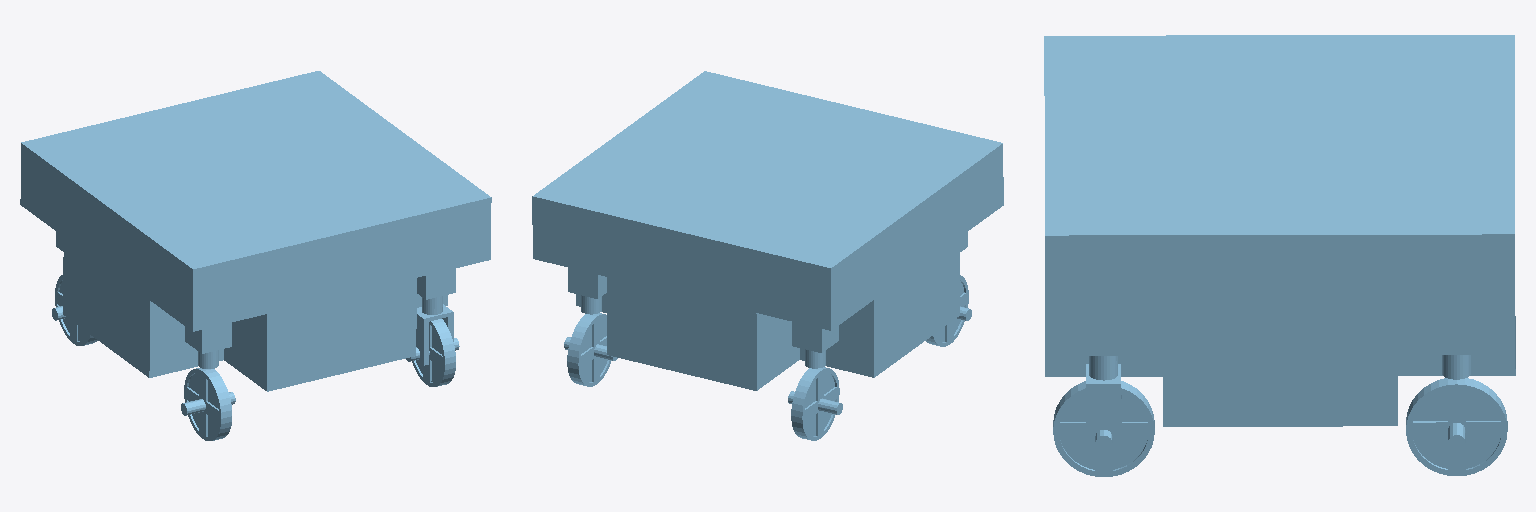
URDF robot description (mobile_base):
<?xml version="1.0" encoding="utf-8"?>
<!-- This URDF was automatically created by SolidWorks to URDF Exporter! Originally created by [author] ([email redacted]) 
     Commit Version: 1.6.0-4-g7f85cfe  Build Version: 1.6.7995.38578
     For more information, please see http://wiki.ros.org/sw_urdf_exporter -->
<robot
  name="mobile_base">
  <link
    name="base_link">
    <inertial>
      <origin
        xyz="-0.000116077702547958 -0.0350031160113934 0.298943810669157"
        rpy="0 0 0" />
      <mass
        value="56"/>
      <inertia
        ixx="5.31"
        ixy="0.0"
        ixz="0.0"
        iyy="5.258"
        iyz="0.0"
        izz="5.310" />
    </inertial>
    <visual>
      <origin
        xyz="0 0 0"
        rpy="0 0 0" />
      <geometry>
        <mesh
          filename="package://mobile_base/meshes/base_link.STL" />
      </geometry>
      <material
        name="">
        <color
          rgba="0.615686274509804 0.811764705882353 0.925490196078431 1" />
      </material>
    </visual>
    <collision>
      <origin
        xyz="0 0 0"
        rpy="0 0 0" />
      <geometry>
        <mesh
          filename="package://mobile_base/meshes/base_link.STL" />
      </geometry>
    </collision>
  </link>
  <link
    name="f_l_prismatic">
    <inertial>
      <origin
        xyz="-1.66533453693773E-16 2.22044604925031E-16 -0.00277737910243356"
        rpy="0 0 0" />
      <mass
        value="0.63" />
      <inertia
        ixx="0.0"
        ixy="0.0"
        ixz="0.0"
        iyy="0.0"
        iyz="0.0"
        izz="0.0" />
    </inertial>
      <visual>
      <origin
        xyz="0 0 0"
        rpy="0 0 0" />
      <geometry>
        <mesh
          filename="package://mobile_base/meshes/f_l_prismatic.STL" />
      </geometry>
      <material
        name="">
        <color
          rgba="0.615686274509804 0.811764705882353 0.929411764705882 1" />
      </material>
    </visual>
    <collision>
      <origin
        xyz="0 0 0"
        rpy="0 0 0" />
      <geometry>
        <mesh
          filename="package://mobile_base/meshes/f_l_prismatic.STL" />
      </geometry>
    </collision>
  </link>
  <joint
    name="f_l_prismatic_joint"
    type="fixed">
    <origin
      xyz="0.2998 -0.33482 0.24287"
      rpy="0.0026114 0.002229 0" /> 
    <parent
      link="base_link" />
    <child
      link="f_l_prismatic" />
    <axis xyz="0 0 1" />
      <limit
      lower="0.01"
      upper="0.05"
      effort="1000"
      velocity="0" />
    <dynamics 
    damping="1"
    friction="0"
    spring_stiffness="0" 
    spring_referance="0" />
  </joint>
  <link
    name="f_l_rotate">
    <inertial>
      <origin
        xyz="-0.000108967571125163 -0.0488863047415668 -0.000127660035035393"
        rpy="0 0 0" />
      <mass
        value="0.35" />
      <inertia
        ixx="0.01"
        ixy="0.0"
        ixz="0.0"
        iyy="0.01"
        iyz="0.0"
        izz="0.0" />
    </inertial>
    <visual>
      <origin
        xyz="0 0 0"
        rpy="0 0 0" />
      <geometry>
        <mesh
          filename="package://mobile_base/meshes/f_1_rotate.STL" />
      </geometry>
      <material
        name="">
        <color
          rgba="0.615686274509804 0.811764705882353 0.929411764705882 1" />
      </material>
    </visual>
    <collision>
      <origin
        xyz="0 0 0"
        rpy="0 0 0" />
      <geometry>
        <mesh
          filename="package://mobile_base/meshes/f_1_rotate.STL" />
      </geometry>
    </collision>
  </link>
  <joint
    name="f_l_rotate_joint"
    type="fixed">
    <origin
      xyz="0 0 -0.0527773791024335"
      rpy="1.56818496671092 -0.00222898866464819 0" />
    <parent
      link="f_l_prismatic" />
    <child
      link="f_l_rotate" />
    <axis
      xyz="0.00222898681890077 0.999994106215458 0.00261135062896505" />
    <limit
      lower="-1.5708"
      upper="1.5708"
      effort="0"
      velocity="0" />
  </joint>
  <link
    name="f_l_ew">
    <inertial>
      <origin
        xyz="0 0 0"
        rpy="0 0 0" />
      <mass
        value="1.89" />
      <inertia
        ixx="018"
        ixy="0.01"
        ixz="0.17"
        iyy="0.34"
        iyz="0.01"
        izz="0.18" />
    </inertial>
    <visual>
      <origin
        xyz="0 0 0"
        rpy="0 0 0" />
      <geometry>
        <mesh
          filename="package://mobile_base/meshes/f_l_ew.STL" />
      </geometry>
      <material
        name="">
        <color
          rgba="0.615686274509804 0.811764705882353 0.929411764705882 1" />
      </material>
    </visual>
    <collision>
      <origin
        xyz="0 0 0"
        rpy="0 0 0" />
      <geometry>
        <mesh
          filename="package://mobile_base/meshes/f_l_ew.STL" />
      </geometry>
    </collision>
  </link>
  <joint
    name="f_l_ew_joint"
    type="continuous">
    <origin
      xyz="-0.000222898681890127 -0.0999994106215459 -0.000261135062896545"
      rpy="3.13936402790797 -1.57065442321589 0" />
    <parent
      link="f_l_rotate" />
    <child
      link="f_l_ew" />
    <axis
      xyz="0 0 1" />
    <limit
      effort="1000"
      velocity="100000" />
  </joint>
  <link
    name="f_r_prismatic">
    <inertial>
      <origin
        xyz="-1.11022302462516E-16 1.11022302462516E-16 -0.0027773791024335"
        rpy="0 0 0" />  
      <mass
        value="0.63" />
      <inertia
        ixx="0.0"
        ixy="0.0"
        ixz="0.0"
        iyy="0.0"
        iyz="0.0"
        izz="0.0" />
    </inertial>
     <visual>
      <origin
        xyz="0 0 0"
        rpy="0 0 0" />
      <geometry>
        <mesh
          filename="package://mobile_base/meshes/f_r_prismatic.STL" />
      </geometry>
      <material
        name="">
        <color
          rgba="0.615686274509804 0.811764705882353 0.929411764705882 1" />
      </material>
    </visual>
    <collision>
      <origin
        xyz="0 0 0"
        rpy="0 0 0" />
      <geometry>
        <mesh
          filename="package://mobile_base/meshes/f_r_prismatic.STL" />
      </geometry>
    </collision>
  </link>
  <joint
    name="f_r_prismatic_joint"
    type="fixed">
    <origin
      xyz="-0.3002 -0.3349 0.24421"
      rpy="0.0026114 0.002229 0" />
    <parent
      link="base_link" />
    <child
      link="f_r_prismatic" />
    <axis
      initial_position = "500"
      xyz="0 0 1" />
    <limit
      lower="0.01"
       upper="0.05"
      effort="1000"
      velocity="0" />
    <dynamics 
    damping="1"  
    friction="0"
    spring_stiffness="0" 
    spring_referance="0"/>
  </joint>
  <link
    name="f_r_rotate">
    <inertial>
      <origin
        xyz="-0.000108967571125163 -0.0488863047415668 -0.000127660035035393"
        rpy="0 0 0" />
      <mass
        value="0.35" />
      <inertia
        ixx="01"
        ixy="0.0"
        ixz="0.0"
        iyy="1"
        iyz="0.0"
        izz="0.0" />
    </inertial>
    <visual>
      <origin
        xyz="0 0 0"
        rpy="0 0 0" />
      <geometry>
        <mesh
          filename="package://mobile_base/meshes/f_r_rotate.STL" />
      </geometry>
      <material
        name="">
        <color
          rgba="0.615686274509804 0.811764705882353 0.929411764705882 1" />
      </material>
    </visual>
    <collision>
      <origin
        xyz="0 0 0"
        rpy="0 0 0" />
      <geometry>
        <mesh
          filename="package://mobile_base/meshes/f_r_rotate.STL" />
      </geometry>
    </collision>
  </link>
  <joint
    name="f_r_rotate_joint"
    type="fixed">
    <origin
      xyz="0 0 -0.0527773791024335"
      rpy="1.56818496671092 -0.00222898866464819 0" />
    <parent
      link="f_r_prismatic" />
    <child
      link="f_r_rotate" />
    <axis
      xyz="0.00222898681890077 0.999994106215458 0.00261135062896505" />
    <limit
      lower="-1.5708"
      upper="1.5708"
      effort="0"
      velocity="0" />
  </joint>
   <link
    name="f_r_ew">
    <inertial>
      <origin
        xyz="5.55111512312578E-17 0 0"
        rpy="0 0 0" />
      <mass
        value="1.89" />
      <inertia
        ixx="018"
        ixy="0.01"
        ixz="0.17"
        iyy="0.34"
        iyz="0.01"
        izz="0.18" />
    </inertial>
    <visual>
      <origin
        xyz="0 0 0"
        rpy="0 0 0" />
      <geometry>
        <mesh
          filename="package://mobile_base/meshes/f_r_ew.STL" />
      </geometry>
      <material
        name="">
        <color
          rgba="0.615686274509804 0.811764705882353 0.929411764705882 1" />
      </material>
    </visual>
    <collision>
      <origin
        xyz="0 0 0"
        rpy="0 0 0" />
      <geometry>
        <mesh
          filename="package://mobile_base/meshes/f_r_ew.STL" />
      </geometry>
     </collision>
   </link>
  <joint
    name="f_r_ew_joint"
    type="continuous">
    <origin
      xyz="-0.000222898681890127 -0.0999994106215459 -0.000261135062896545"
      rpy="-0.00222862568182399 -1.57065442321589 0" />
    <parent
      link="f_r_rotate" />
    <child
      link="f_r_ew" />
    <axis
      xyz="0 0 1" />
    <limit
      effort="1000"
      velocity="100000" />
  </joint>
  <link
    name="r_r_prismatic">
    <inertial>
      <origin
        xyz="-5.55111512312578E-17 1.11022302462516E-16 -0.00277737910243359"
        rpy="0 0 0" />
      <mass
        value="0.63" />
      <inertia
        ixx="0.0"
        ixy="0.0"
        ixz="0.0"
        iyy="0.0"
        iyz="0.0"
        izz="0.0" />
    </inertial>

    <visual>
      <origin
        xyz="0 0 0"
        rpy="0 0 0" />
      <geometry>
        <mesh
          filename="package://mobile_base/meshes/r_r_prismatic.STL" />
      </geometry>
      <material
        name="">
        <color
          rgba="0.615686274509804 0.811764705882353 0.929411764705882 1" />
      </material>
    </visual>
    <collision>
      <origin
        xyz="0 0 0"
        rpy="0 0 0" />
      <geometry>
        <mesh
          filename="package://mobile_base/meshes/r_r_prismatic.STL" />
      </geometry>
    </collision>
  </link>
  <joint
    name="r_r_prismatic_joint"
    type="fixed">
    <origin
      xyz="-0.30028 0.2651 0.24578"
      rpy="0.0026114 0.002229 0" /> 
    <parent
      link="base_link" />
    <child
      link="r_r_prismatic" />
    <axis
      
      xyz="0 0 1" />
    <limit
      lower="0.01"
       upper="0.05"
      effort="1000"
      velocity="0" />
    <dynamics 
    damping="1"
    friction="0"
    spring_stiffness="0" 
    spring_referance="0" />
  </joint>
  <link
    name="r_r_rotate">
    <inertial>
      <origin
        xyz="-0.000108967571125107 -0.0488863047415668 -0.000127660035035393"
        rpy="0 0 0" />
      <mass
        value="0.35" />
      <inertia
        ixx="0.01"
        ixy="0.0"
        ixz="0.0"
        iyy="0.01"
        iyz="0.0"
        izz="0.0" />
    </inertial>
    <visual>
      <origin
        xyz="0 0 0"
        rpy="0 0 0" />
      <geometry>
        <mesh
          filename="package://mobile_base/meshes/r_r_rotate.STL" />
      </geometry>
      <material
        name="">
        <color
          rgba="0.615686274509804 0.811764705882353 0.929411764705882 1" />
      </material>
    </visual>
    <collision>
      <origin
        xyz="0 0 0"
        rpy="0 0 0" />
      <geometry>
        <mesh
          filename="package://mobile_base/meshes/r_r_rotate.STL" />
      </geometry>
    </collision>
  </link>
  <joint
    name="r_r_rotate_joint"
    type="fixed">
    <origin
      xyz="0 0 -0.0527773791024335"
      rpy="1.56818496671092 -0.00222898866464819 0" />
    <parent
      link="r_r_prismatic" />
    <child
      link="r_r_rotate" />
    <axis
      xyz="0.00222898681890077 0.999994106215458 0.00261135062896505" />
    <limit
      lower="-1.5708" 
      upper="1.5708"
      effort="0"
      velocity="0" />
  </joint>
   <link
    name="r_r_ew">
    <inertial>
      <origin
        xyz="0 0 0"
        rpy="0 0 0" />
      <mass
        value="1.89" />
      <inertia
        ixx="018"
        ixy="0.01"
        ixz="0.17"
        iyy="0.34"
        iyz="0.01"
        izz="0.18" />
    </inertial>
    <visual>
      <origin
        xyz="0 0 0"
        rpy="0 0 0" />
      <geometry>
        <mesh
          filename="package://mobile_base/meshes/r_r_ew.STL" />
      </geometry>
      <material
        name="">
        <color
          rgba="0.615686274509804 0.811764705882353 0.929411764705882 1" />
      </material>
    </visual>
    <collision>
      <origin
        xyz="0 0 0"
        rpy="0 0 0" />
      <geometry>
        <mesh
          filename="package://mobile_base/meshes/r_r_ew.STL" />
      </geometry>
    </collision>
  </link>
  <joint
    name="r_r_ew_joint"
    type="continuous">
    <origin
      xyz="-0.000222898681890127 -0.0999994106215459 -0.000261135062896489"
      rpy="-0.00222862568182399 -1.57065442321589 0" />
    <parent
      link="r_r_rotate" />
    <child
      link="r_r_ew" />
    <axis
      xyz="0 0 1" />
   <limit
      effort="1000"
      velocity="100000" />
  </joint>
  <link
    name="r_l_prismatic">
    <inertial>
      <origin
        xyz="0 1.66533453693773E-16 -0.0027773791024335"
        rpy="0 0 0" />
      <mass
        value="0.63" />
      <inertia
        ixx="0.0"
        ixy="0.0"
        ixz="0.0"
        iyy="0.0"
        iyz="0.0"
        izz="0.0" />
    </inertial>
 
    <visual>
      <origin
        xyz="0 0 0"
        rpy="0 0 0" />
      <geometry>
        <mesh
          filename="package://mobile_base/meshes/r_l_prismatic.STL" />
      </geometry>
      <material
        name="">
        <color
          rgba="0.615686274509804 0.811764705882353 0.929411764705882 1" />
      </material>
    </visual>
    <collision>
      <origin
        xyz="0 0 0"
        rpy="0 0 0" />
      <geometry>
        <mesh
          filename="package://mobile_base/meshes/r_l_prismatic.STL" />
      </geometry>
    </collision>
  </link>

  <joint
    name="r_l_prismatic_joint"
    type="fixed">
    <origin
      xyz="0.299720607952755 0.265181054293093 0.24444162435061"
      rpy="0.00261136657109324 0.00222898106467852 0" /> 
    <parent
      link="base_link" />
    <child
      link="r_l_prismatic" />
    <axis
      xyz="0 0 1" />
    <limit
      lower="0.01"
      upper="0.05"
      effort="1000"
      velocity="0" />
    <dynamics 
      damping="1"
      friction="0"
      spring_stiffness="0" 
      spring_referance="0"
      />
  </joint>
   <link
    name="r_l_rotate">
    <inertial>
      <origin
        xyz="-0.000108967571125052 -0.0488863047415668 -0.000127660035035393"
        rpy="0 0 0" />
      <mass
        value="0.35" />
      <inertia
        ixx="0.01"
        ixy="0.0"
        ixz="0.0"
        iyy="0.01"
        iyz="0.0"
        izz="0.0" />
    </inertial>
    <visual>
      <origin
        xyz="0 0 0"
        rpy="0 0 0" />
      <geometry>
        <mesh
          filename="package://mobile_base/meshes/r_l_rotate.STL" />
      </geometry>
      <material
        name="">
        <color
          rgba="0.615686274509804 0.811764705882353 0.929411764705882 1" />
      </material>
    </visual>
    <collision>
      <origin
        xyz="0 0 0"
        rpy="0 0 0" />
      <geometry>
        <mesh
          filename="package://mobile_base/meshes/r_l_rotate.STL" />
      </geometry>
    </collision>
  </link>
  <joint
    name="r_l_rotate_joint"
    type="fixed">
    <origin
      xyz="0 0 -0.0527773791024335"
      rpy="1.56818496671092 -0.00222898866464819 0" />
    <parent
      link="r_l_prismatic" />
    <child
      link="r_l_rotate" />
    <axis
      xyz="0.00222898681890077 0.999994106215458 0.00261135062896505" />
    <limit
      lower="-1.5708"
      upper="1.5708"
      effort="0"
      velocity="0" />
  </joint>
  <link
    name="r_l_ew">
    <inertial>
      <origin
        xyz="0 1.38777878078145E-17 0"
        rpy="0 0 0" />
      <mass
        value="1.89" />
      <inertia
        ixx="018"
        ixy="0.01"
        ixz="0.17"
        iyy="0.34"
        iyz="0.01"
        izz="0.18" />
    </inertial>
    <visual>
      <origin
        xyz="0 0 0"
        rpy="0 0 0" />
      <geometry>
        <mesh
          filename="package://mobile_base/meshes/r_l_ew.STL" />
      </geometry>
      <material
        name="">
        <color
          rgba="0.615686274509804 0.811764705882353 0.929411764705882 1" />
      </material>
    </visual>
    <collision>
      <origin
        xyz="0 0 0"
        rpy="0 0 0" />
      <geometry>
        <mesh
          filename="package://mobile_base/meshes/r_l_ew.STL" />
      </geometry>
    </collision>
  </link>
 <joint
    name="r_l_ew_joint"
    type="continuous">
    <origin
      xyz="-0.000222898681890127 -0.0999994106215459 -0.000261135062896489"
      rpy="3.13936402790797 -1.57065442321589 0" />
      
    <parent
      link="r_l_rotate" />
    <child
      link="r_l_ew" />
    <axis
      xyz="0 0 1" />
    <limit
      effort="1000"
      velocity="100000" />
  </joint>


  <transmission name="f_l_ew_trans">
    <type>transmission_interface/SimpleTransmission</type>
    <joint name="f_l_ew_joint">
      <hardwareInterface>hardware_interface/VelocityJointInterface</hardwareInterface>
    </joint>
    <actuator name="f_l_ew_motor">
      <hardwareInterface>hardware_interface/VelocityJointInterface</hardwareInterface>
      <mechanicalReduction>1</mechanicalReduction>
    </actuator>
  </transmission>
  
  <transmission name="f_r_ew_trans">
    <type>transmission_interface/SimpleTransmission</type>
    <joint name="f_r_ew_joint">
      <hardwareInterface>hardware_interface/VelocityJointInterface</hardwareInterface>
    </joint>
    <actuator name="f_r_ew_motor">
      <hardwareInterface>hardware_interface/VelocityJointInterface</hardwareInterface>
      <mechanicalReduction>1</mechanicalReduction>
    </actuator>
  </transmission>
  
  <transmission name="r_l_ew_trans">
    <type>transmission_interface/SimpleTransmission</type>
    <joint name="r_l_ew_joint">
      <hardwareInterface>hardware_interface/VelocityJointInterface</hardwareInterface>
    </joint>
    <actuator name="r_l_ew_motor">
      <hardwareInterface>hardware_interface/VelocityJointInterface</hardwareInterface>
      <mechanicalReduction>1</mechanicalReduction>
    </actuator>
  </transmission>
  
  <transmission name="r_r_ew_trans">
    <type>transmission_interface/SimpleTransmission</type>
    <joint name="r_r_ew_joint">
      <hardwareInterface>hardware_interface/VelocityJointInterface</hardwareInterface>
    </joint>
    <actuator name="r_r_ew_motor">
      <hardwareInterface>hardware_interface/VelocityJointInterface</hardwareInterface>
      <mechanicalReduction>1</mechanicalReduction>
    </actuator>
  </transmission>

  <!--  -->
  <!-- <transmission name="f_l_rotate_trans">
    <type>transmission_interface/SimpleTransmission</type>
    <joint name="f_l_rotate_joint">
      <hardwareInterface>hardware_interface/VelocityJointInterface</hardwareInterface>
    </joint>
    <actuator name="f_l_rotate_motor">
      <hardwareInterface>hardware_interface/VelocityJointInterface</hardwareInterface>
      <mechanicalReduction>1</mechanicalReduction>
    </actuator>
  </transmission>
  
  <transmission name="f_r_rotate_trans">
    <type>transmission_interface/SimpleTransmission</type>
    <joint name="f_r_rotate_joint">
      <hardwareInterface>hardware_interface/VelocityJointInterface</hardwareInterface>
    </joint>
    <actuator name="f_r_rotate_motor">
      <hardwareInterface>hardware_interface/VelocityJointInterface</hardwareInterface>
      <mechanicalReduction>1</mechanicalReduction>
    </actuator>
  </transmission>
  
  <transmission name="r_l_rotate_trans">
    <type>transmission_interface/SimpleTransmission</type>
    <joint name="r_l_rotate_joint">
      <hardwareInterface>hardware_interface/VelocityJointInterface</hardwareInterface>
    </joint>
    <actuator name="r_l_rotate_motor">
      <hardwareInterface>hardware_interface/VelocityJointInterface</hardwareInterface>
      <mechanicalReduction>1</mechanicalReduction>
    </actuator>
  </transmission>
  
  <transmission name="r_r_rotate_trans">
    <type>transmission_interface/SimpleTransmission</type>
    <joint name="r_r_rotate_joint">
      <hardwareInterface>hardware_interface/VelocityJointInterface</hardwareInterface>
    </joint>
    <actuator name="r_r_rotate_motor">
      <hardwareInterface>hardware_interface/VelocityJointInterface</hardwareInterface>
      <mechanicalReduction>1</mechanicalReduction>
    </actuator>
  </transmission> -->




  <gazebo>
    <plugin name="gazebo_ros_control" filename="libgazebo_ros_control.so">
     <robotNamespace>/mobile_base</robotNamespace>
     <robotSimType>gazebo_ros_control/DefaultRobotHWSim</robotSimType>
    </plugin>
  </gazebo> 
  
 
</robot>

--- Facts derived from the render (not from the file) ---
3 views of the same robot in one strip: view 1: azimuth 30°, elevation 25°; view 2: azimuth 150°, elevation 25°; view 3: azimuth 270°, elevation 25° (orthographic).
Robot: mobile_base — 13 links, 12 joints (4 continuous, 8 fixed); root link base_link; default pose: every joint at zero.
Visible links, largest first — view 1: base_link, f_r_ew, f_l_ew, f_l_rotate, r_r_ew; view 2: base_link, r_r_ew, r_l_ew, f_r_ew; view 3: base_link, r_l_ew, f_l_ew, f_l_rotate, r_l_prismatic, f_l_prismatic.
Boxes of the visible links, left/top/right/bottom form: base_link: left=20, top=71, right=491, bottom=391; f_r_ew: left=181, top=368, right=235, bottom=440; f_l_ew: left=406, top=319, right=459, bottom=386; f_l_rotate: left=416, top=304, right=453, bottom=365; r_r_ew: left=52, top=275, right=97, bottom=345; base_link: left=532, top=71, right=1003, bottom=390; r_r_ew: left=788, top=367, right=842, bottom=440; r_l_ew: left=564, top=313, right=617, bottom=386; f_r_ew: left=926, top=275, right=971, bottom=346; base_link: left=1044, top=35, right=1515, bottom=426; r_l_ew: left=1406, top=378, right=1507, bottom=475; f_l_ew: left=1053, top=381, right=1154, bottom=476; f_l_rotate: left=1086, top=364, right=1121, bottom=447; r_l_prismatic: left=1442, top=355, right=1470, bottom=379; f_l_prismatic: left=1089, top=356, right=1117, bottom=380.
Bounding box of the posed robot: 0.8009 × 0.801 × 0.4977 m (x, y, z).
Meshes: 13 distinct files referenced, 10 mesh visuals loaded (10 binary STL); not drawn: 3 (reference not matched to a file when rendering).